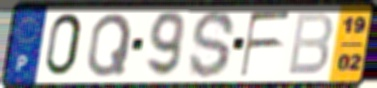0: (43, 12, 84, 79)
9: (144, 10, 188, 79)
B: (285, 11, 336, 77)
F: (239, 9, 294, 79)
Q: (84, 11, 135, 80)
S: (187, 9, 238, 81)
